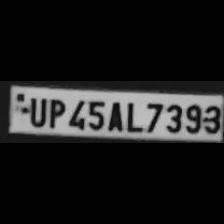3: (162, 100, 182, 134), (201, 102, 221, 134)
4: (66, 96, 86, 130)
5: (84, 97, 106, 130)
7: (141, 100, 161, 132)
9: (182, 100, 202, 134)
A: (106, 98, 124, 132)
L: (122, 98, 142, 132)
P: (44, 96, 64, 128)
U: (26, 95, 46, 127)
